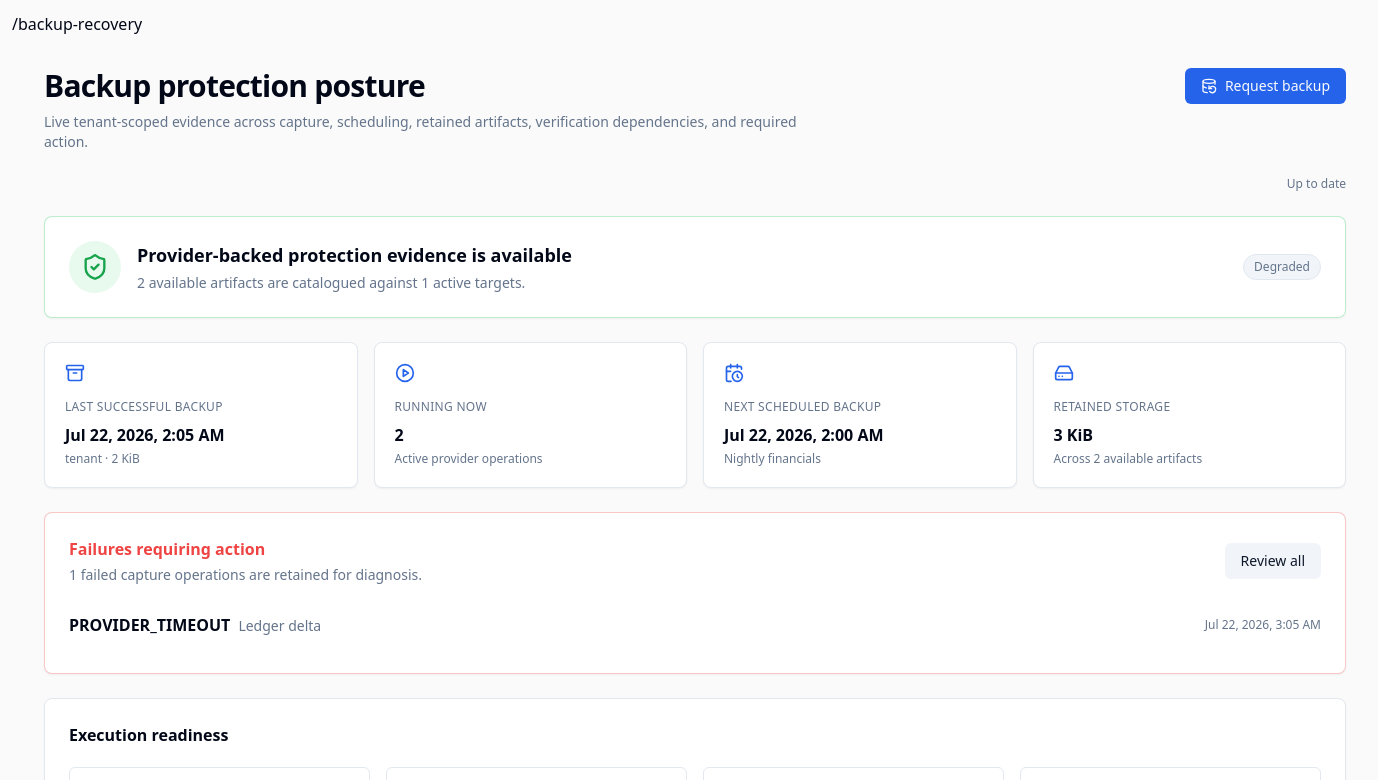
Test: backup recovery governed page states › aggregates overview protection evidence across paged archives and routes metrics
Expected: the heading "Backup protection posture" is shown, [44, 65, 425, 106]
Expected: the heading "Provider-backed protection evidence is available" is shown, [137, 241, 572, 269]
Click the text "Running now" at {"x": 441, "y": 406}, box [394, 398, 487, 415]
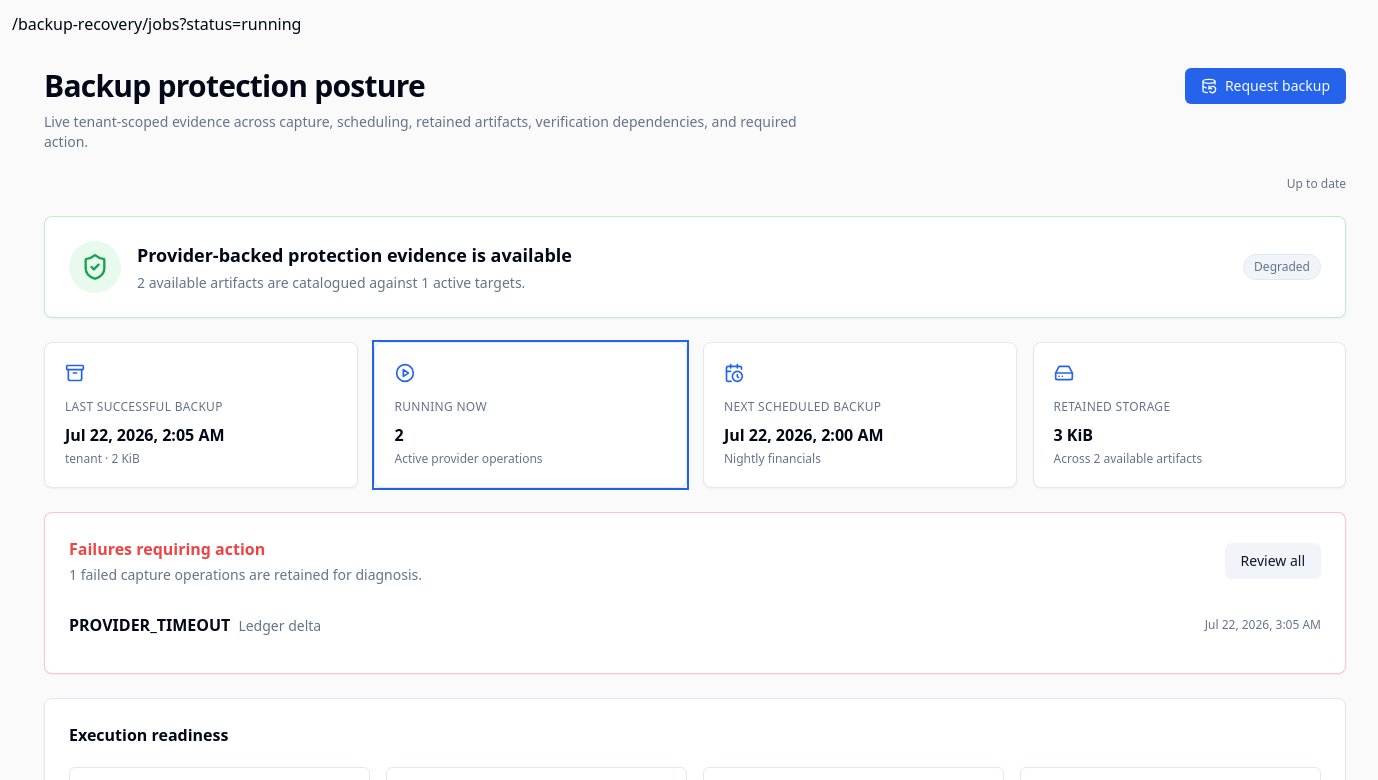
Expected: the text named "Current route" reads "/backup-recovery/jobs?status=running", [12, 13, 301, 35]
